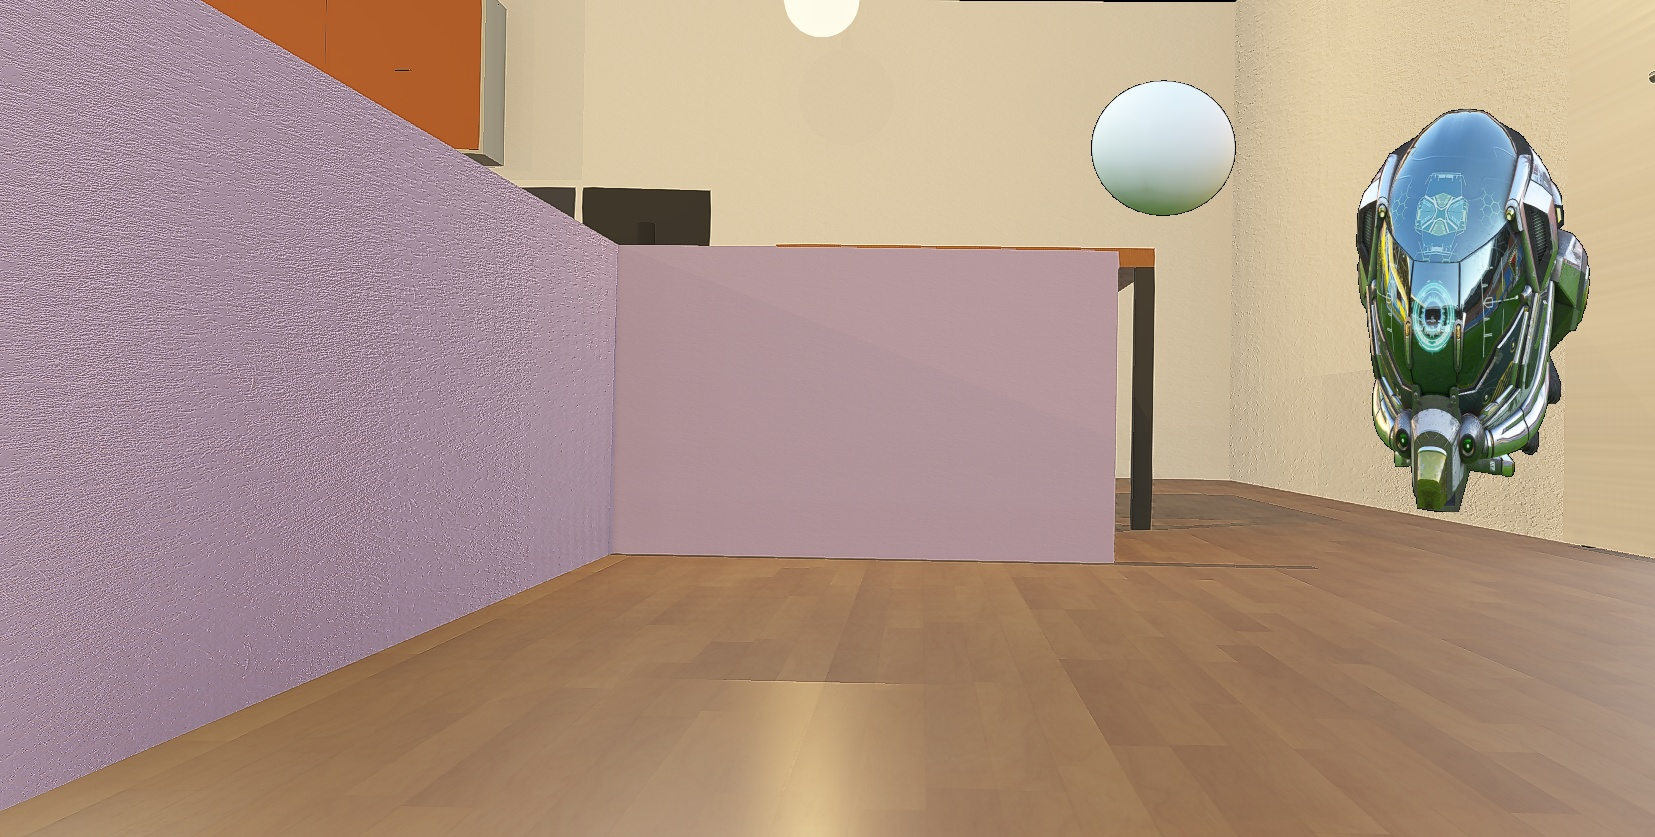casco: (1356, 108, 1590, 514)
pelota: (1091, 80, 1236, 216)
